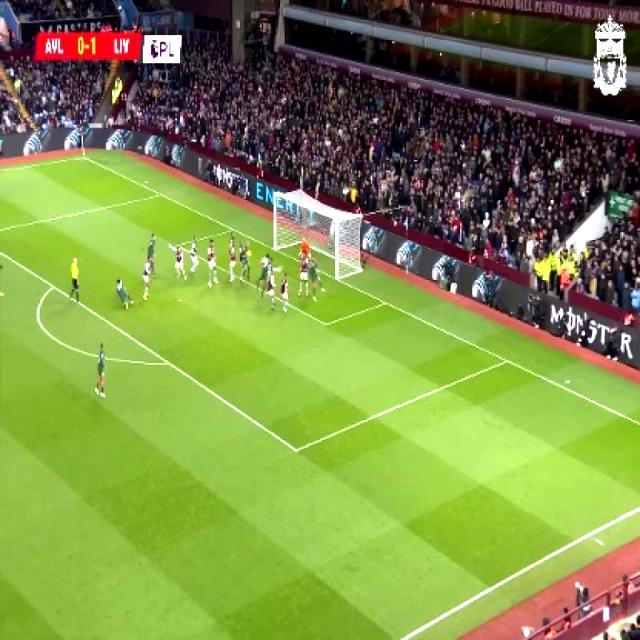bigarea_bottom_inner: (286, 436, 304, 461)
bigarea_bottom_outter: (498, 351, 514, 369)
bigarea_top_outter: (152, 186, 166, 202)
bottom_arc_area_intersection: (160, 351, 177, 372)
corner: (74, 149, 89, 163)
smallarea_bottom_inner: (316, 312, 334, 334)
smallarea_bottom_outter: (378, 292, 392, 311)
smallarea_top_inner: (166, 236, 179, 254)
smallarea_top_outter: (226, 220, 239, 237)
top_arc_area_intersection: (45, 275, 60, 295)
